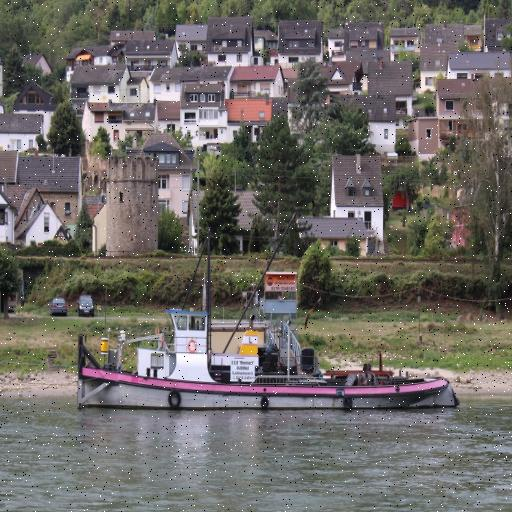tugboat: (76, 299, 463, 418)
